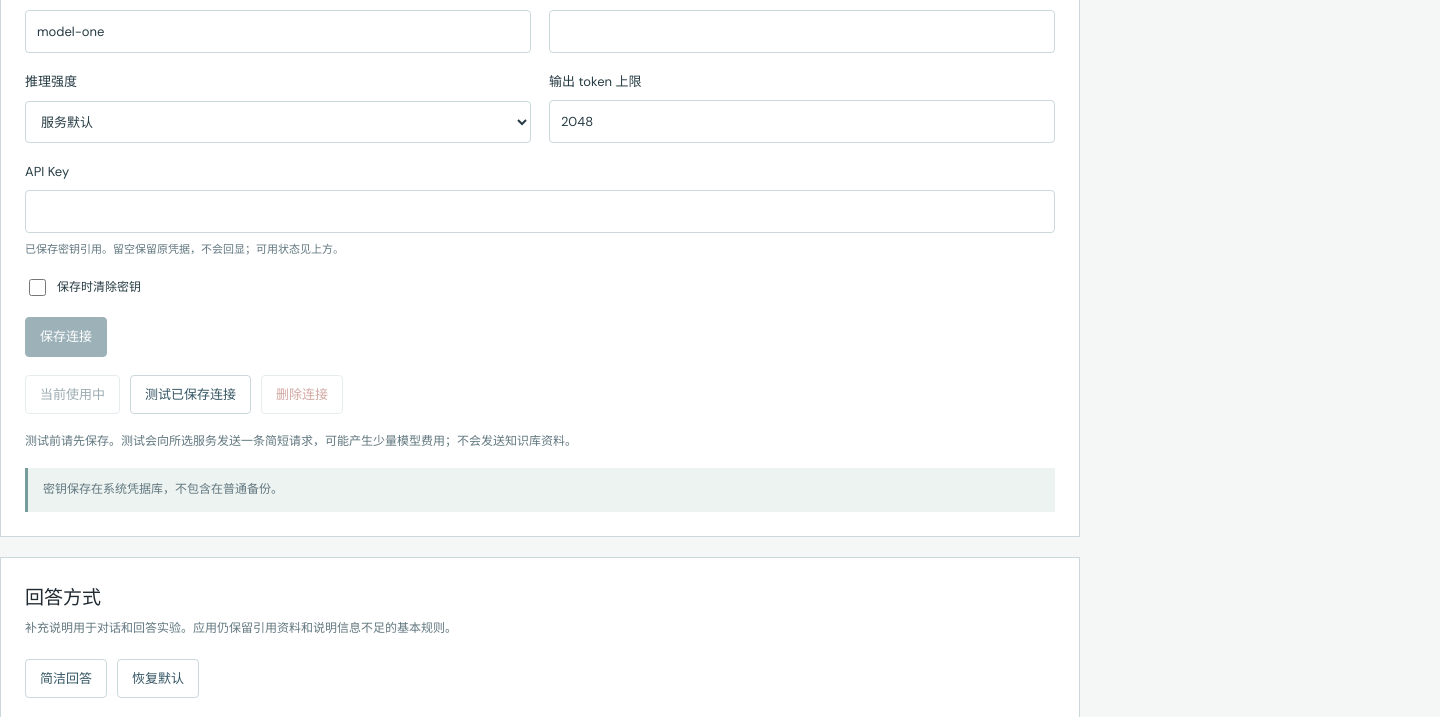
Test: only tests a saved unchanged connection after explicit action
(page scrolled)
Click the button "测试已保存连接".
click(190, 394)  # box 130,375 -> 251,414
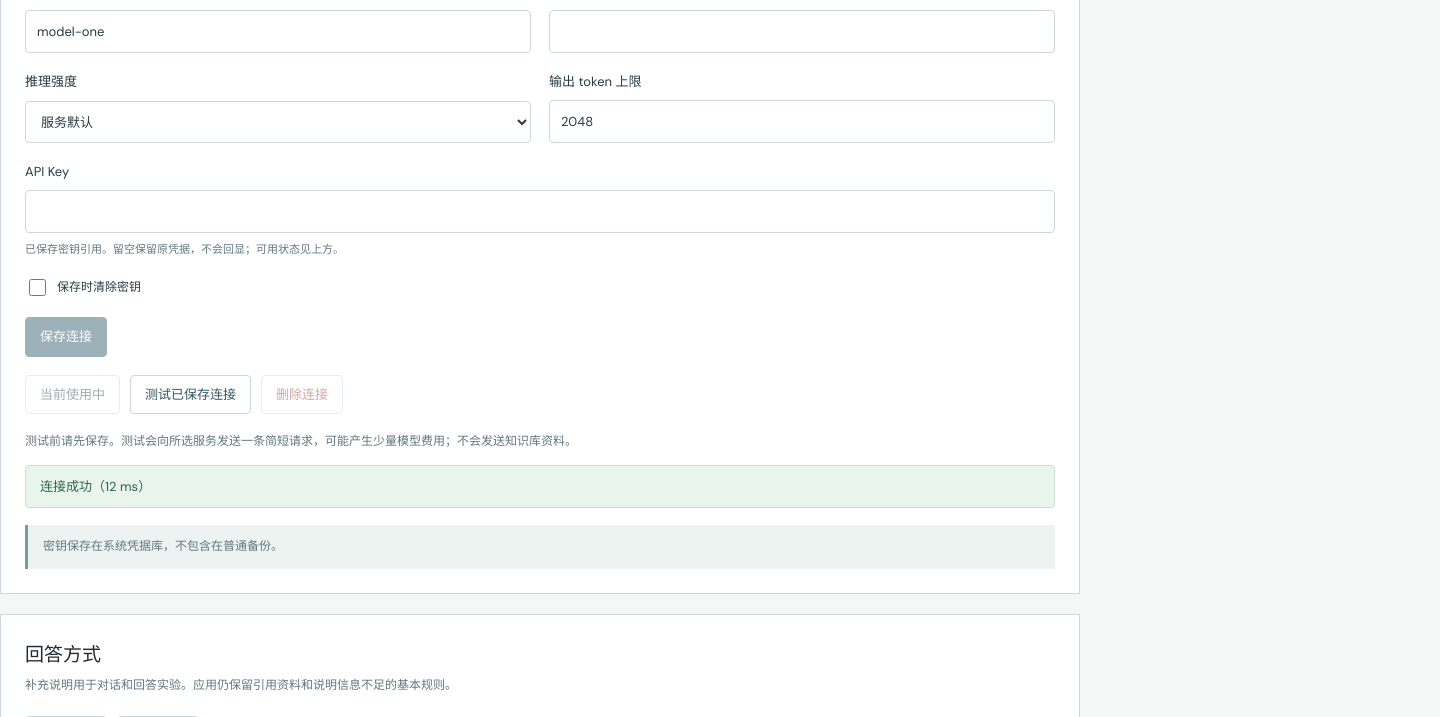
Expected: the text "连接成功（12 ms）" is shown, 25,465 -> 1055,508
Type "draft" into the password field labelled "API Key".
click(540, 211); type("draft")  # box 25,190 -> 1055,233
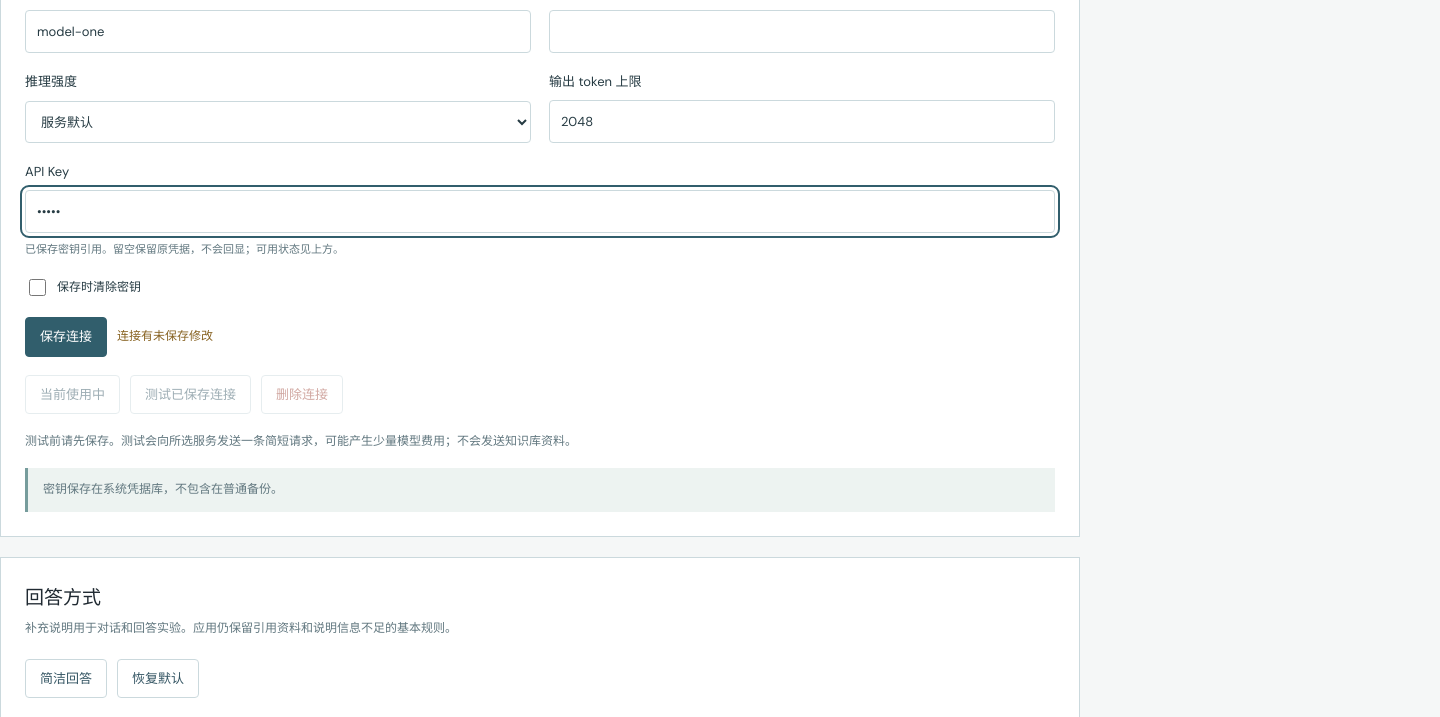
Expected: the button "测试已保存连接" is disabled, 130,375 -> 251,414
